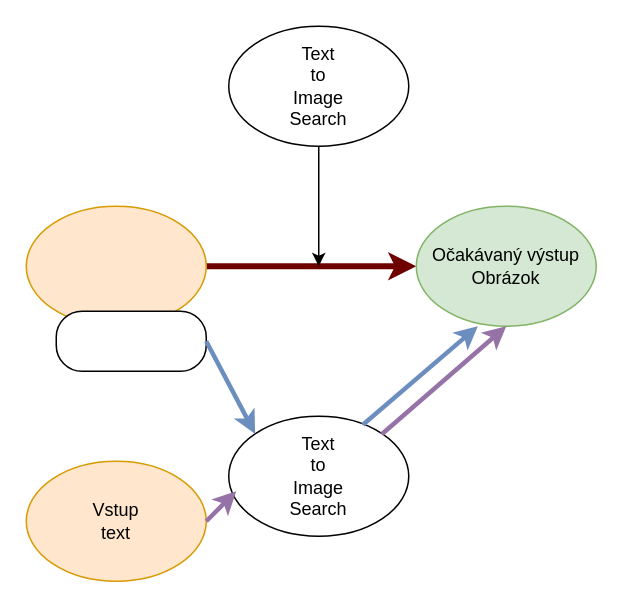
This 623x608 diagram has some shape labels left out. The shapes that lost their labels are listed below. From the top down, each one's centre as x and y in pixels, then its label:
At point (115, 265): "Vstup Obrázok".
At point (130, 340): "Metadáta".
